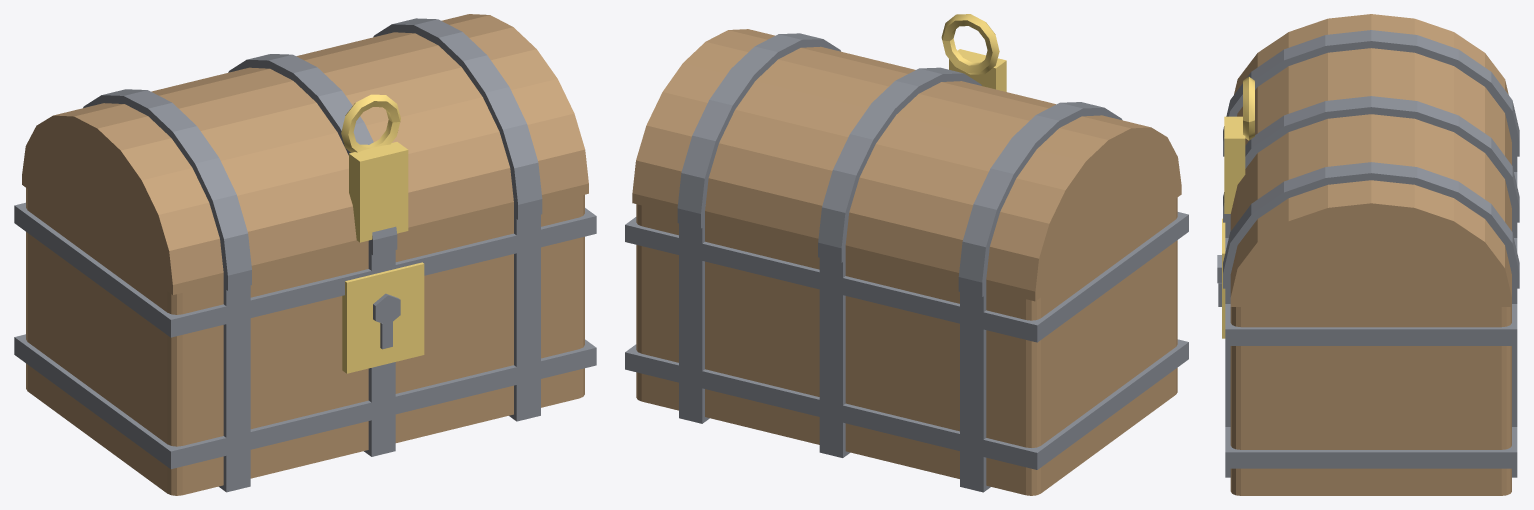
File: pickups-and-collectibles-treasure-chest-4d0f6bc2.glb
3 renders of one model, left to right at view 1: azimuth 30°, elevation 25°; view 2: azimuth 150°, elevation 25°; view 3: azimuth 270°, elevation 25°, orthographic. The views are drawn at different scales.
Visible parts, largest first — view 1: lid/timber, body/timber, body/iron, lid/iron, body/gold, lid/gold; view 2: body/timber, lid/timber, body/iron, lid/iron, lid/gold; view 3: lid/timber, body/timber, lid/iron, body/iron, lid/gold, body/gold.
Part boxes in pixels (x1,y1,x2,y2): lid/timber: (22,14,588,294); body/timber: (26,179,584,495); body/iron: (14,196,596,492); lid/iron: (83,18,542,290); body/gold: (342,262,424,373); lid/gold: (341,94,408,242); body/timber: (636,189,1177,495); lid/timber: (632,29,1181,301); body/iron: (625,206,1188,492); lid/iron: (677,33,1122,297); lid/gold: (941,14,1006,91); lid/timber: (1230,14,1511,306); body/timber: (1230,297,1511,495); lid/iron: (1223,30,1519,288); body/iron: (1217,137,1517,477); lid/gold: (1224,76,1254,213); body/gold: (1222,218,1225,338).
Size of the model in its own units: 0.88 by 0.692 by 0.581.
